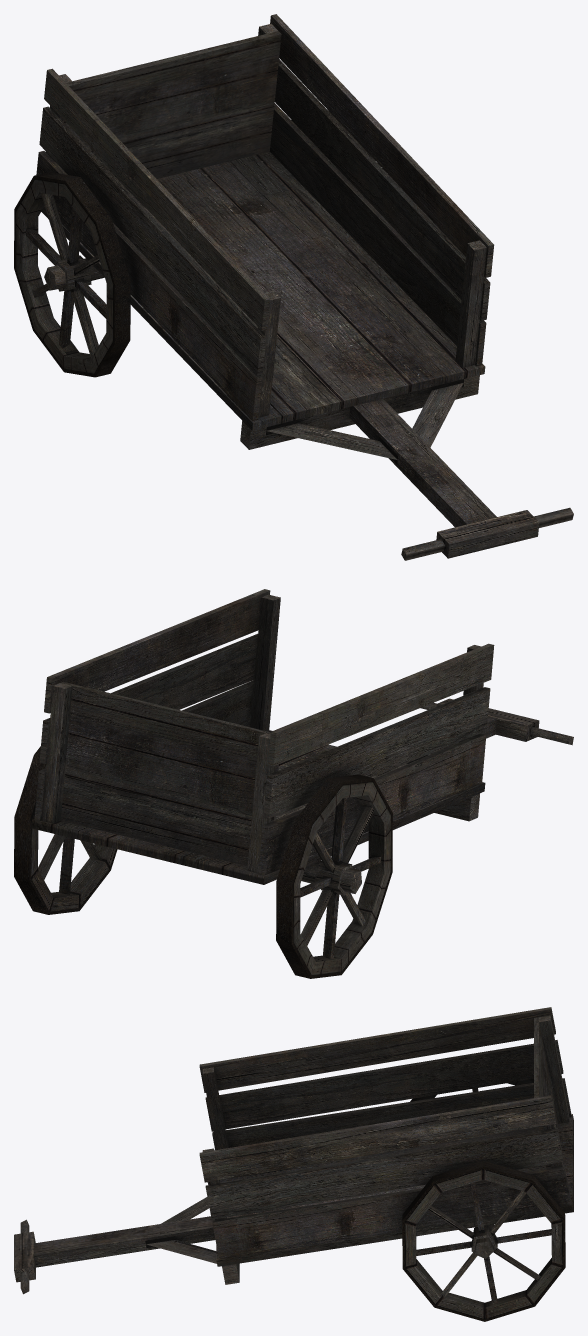
Rendered from Wagon2_LOD1.fbx.
3 renders of one model, top to bottom at view 1: azimuth 30°, elevation 25°; view 2: azimuth 150°, elevation 25°; view 3: azimuth 270°, elevation 25°, orthographic. The views are drawn at different scales.
Visible parts, largest first — view 1: polySurface153; view 2: polySurface153; view 3: polySurface153.
Boxes of the visible parts, box(x1,y1,x2,y2) form: polySurface153: box(14, 14, 573, 560); polySurface153: box(14, 589, 573, 978); polySurface153: box(14, 1007, 573, 1321).
Bounding box in the file's own units: 7.36 × 6.12 × 14.44.
